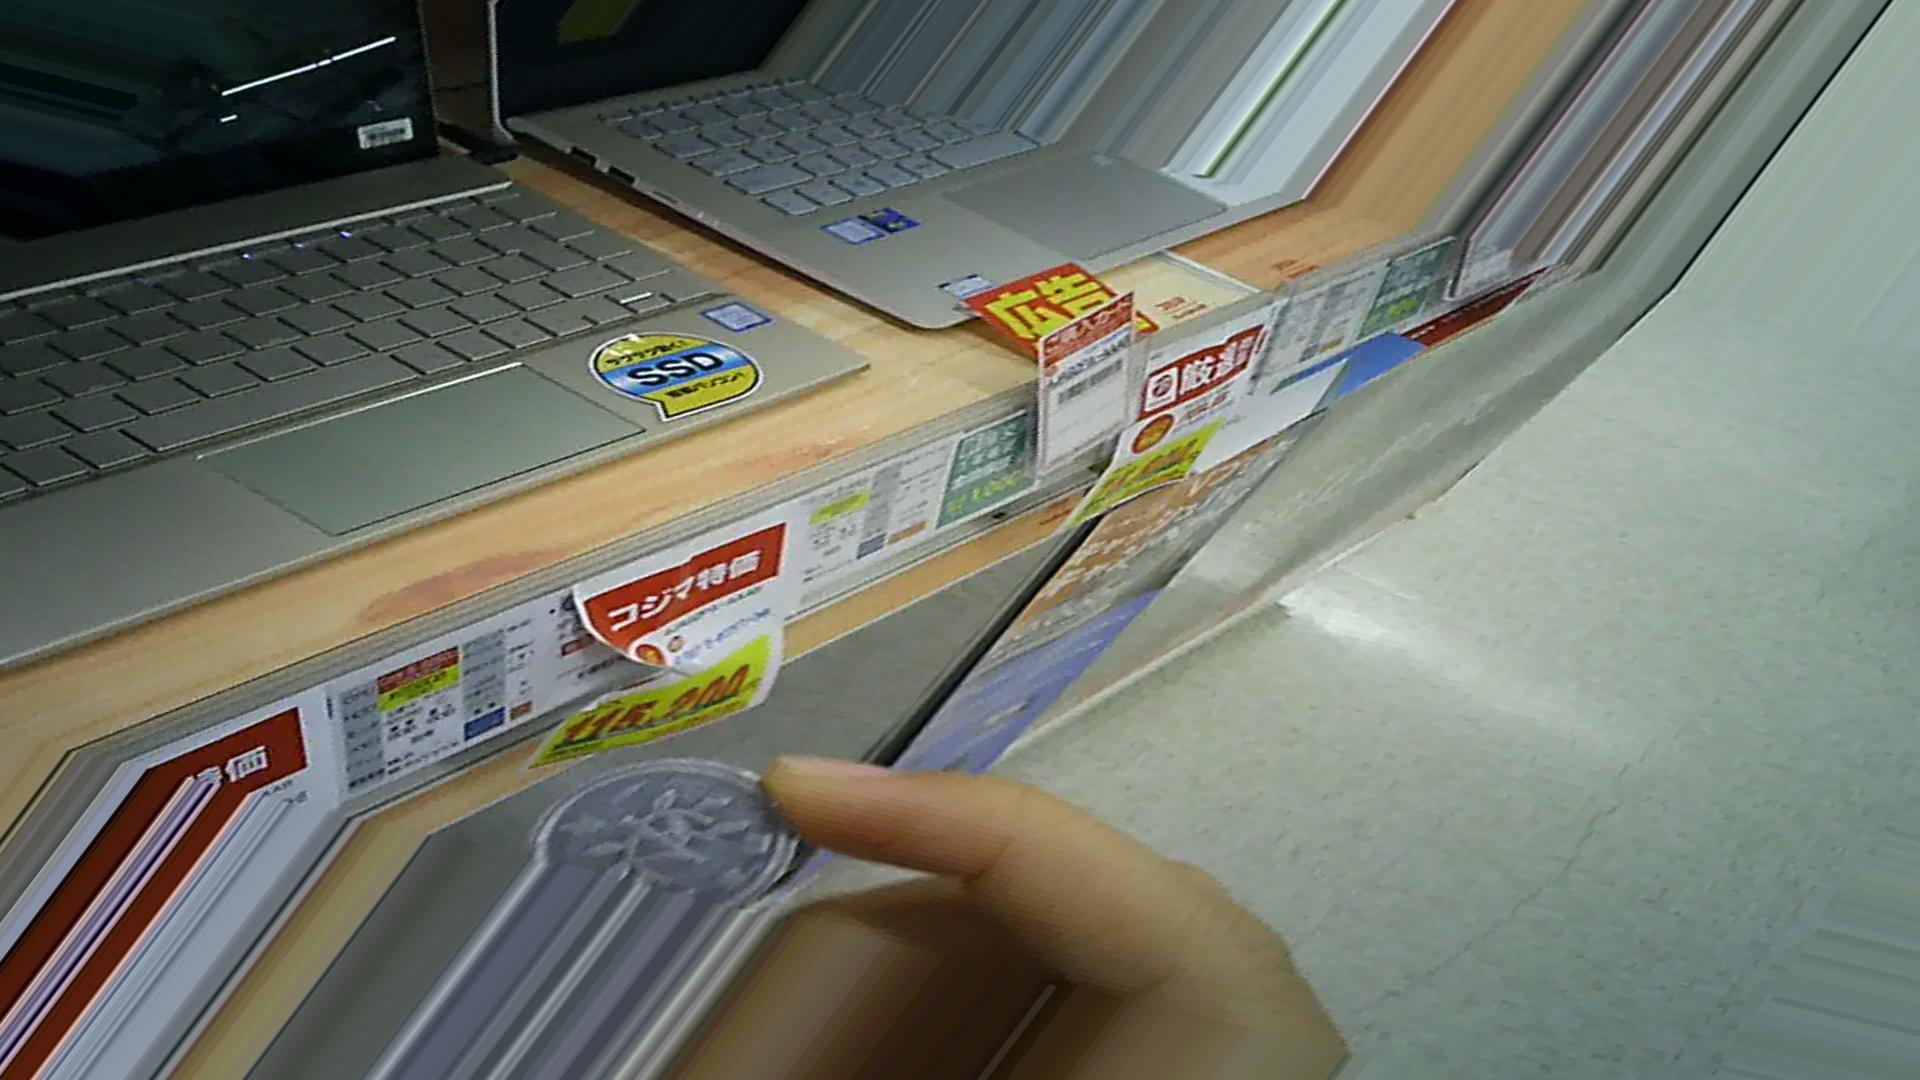1 Yen: (520, 756, 810, 913)
